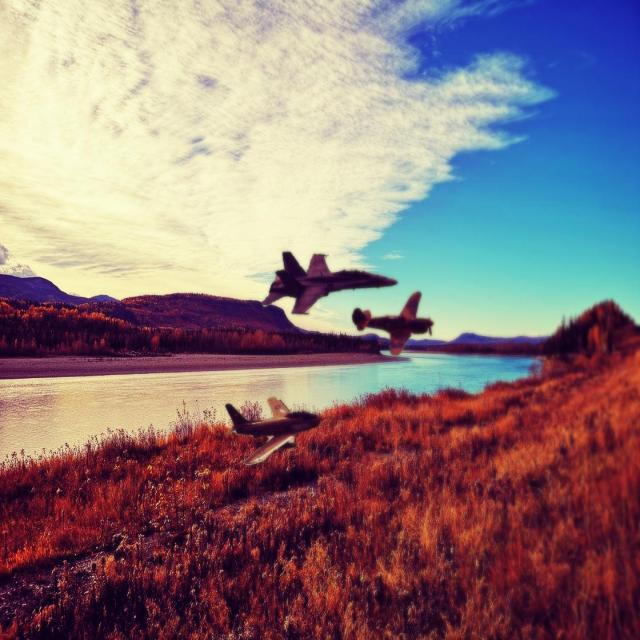airplane: (262, 251, 398, 315), (224, 396, 322, 466), (351, 290, 434, 356)
